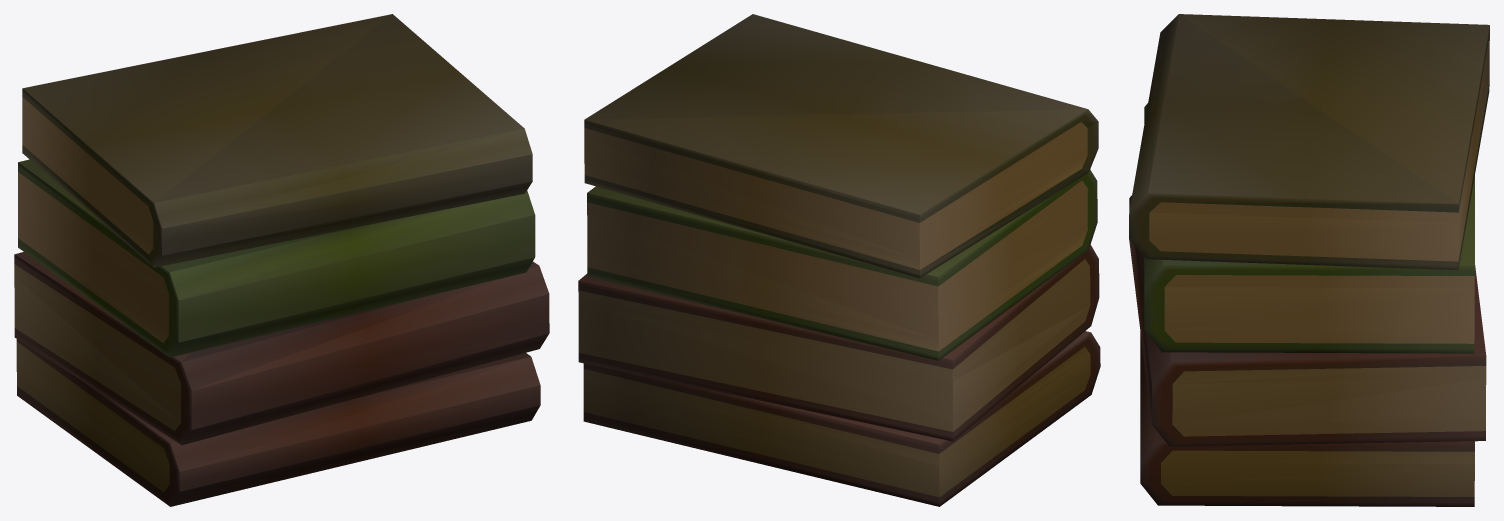
Rendered from prop_book_stack.glb.
3 views of the same model, side by side, from view 1: azimuth 30°, elevation 25°; view 2: azimuth 150°, elevation 25°; view 3: azimuth 270°, elevation 25° (orthographic). The views are drawn at different scales.
Visible parts, largest first — view 1: refined; view 2: refined; view 3: refined.
Part boxes in pixels (x1,y1,x2,y2): refined: (14,14,549,506); refined: (578,14,1100,506); refined: (1129,14,1489,506).
Bounding box in the file's own units: 0.2849 × 0.2137 × 0.2263.
